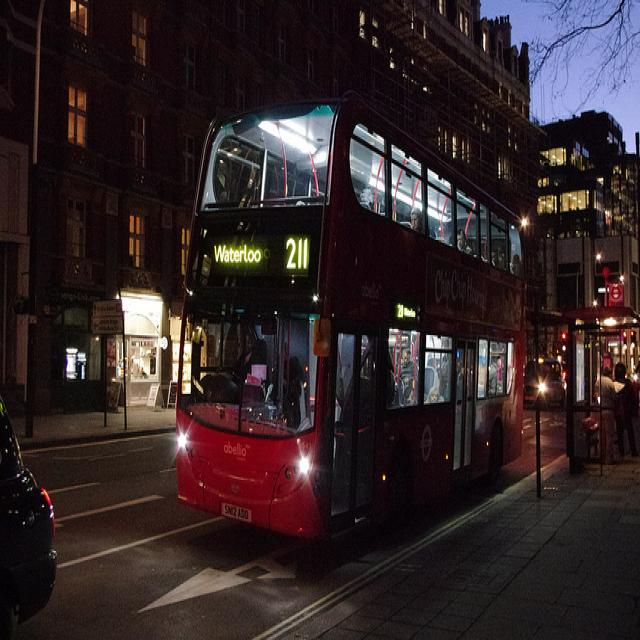Bus: (171, 77, 526, 546)
People: (607, 348, 639, 454)
car: (0, 354, 65, 640), (524, 330, 573, 428)
